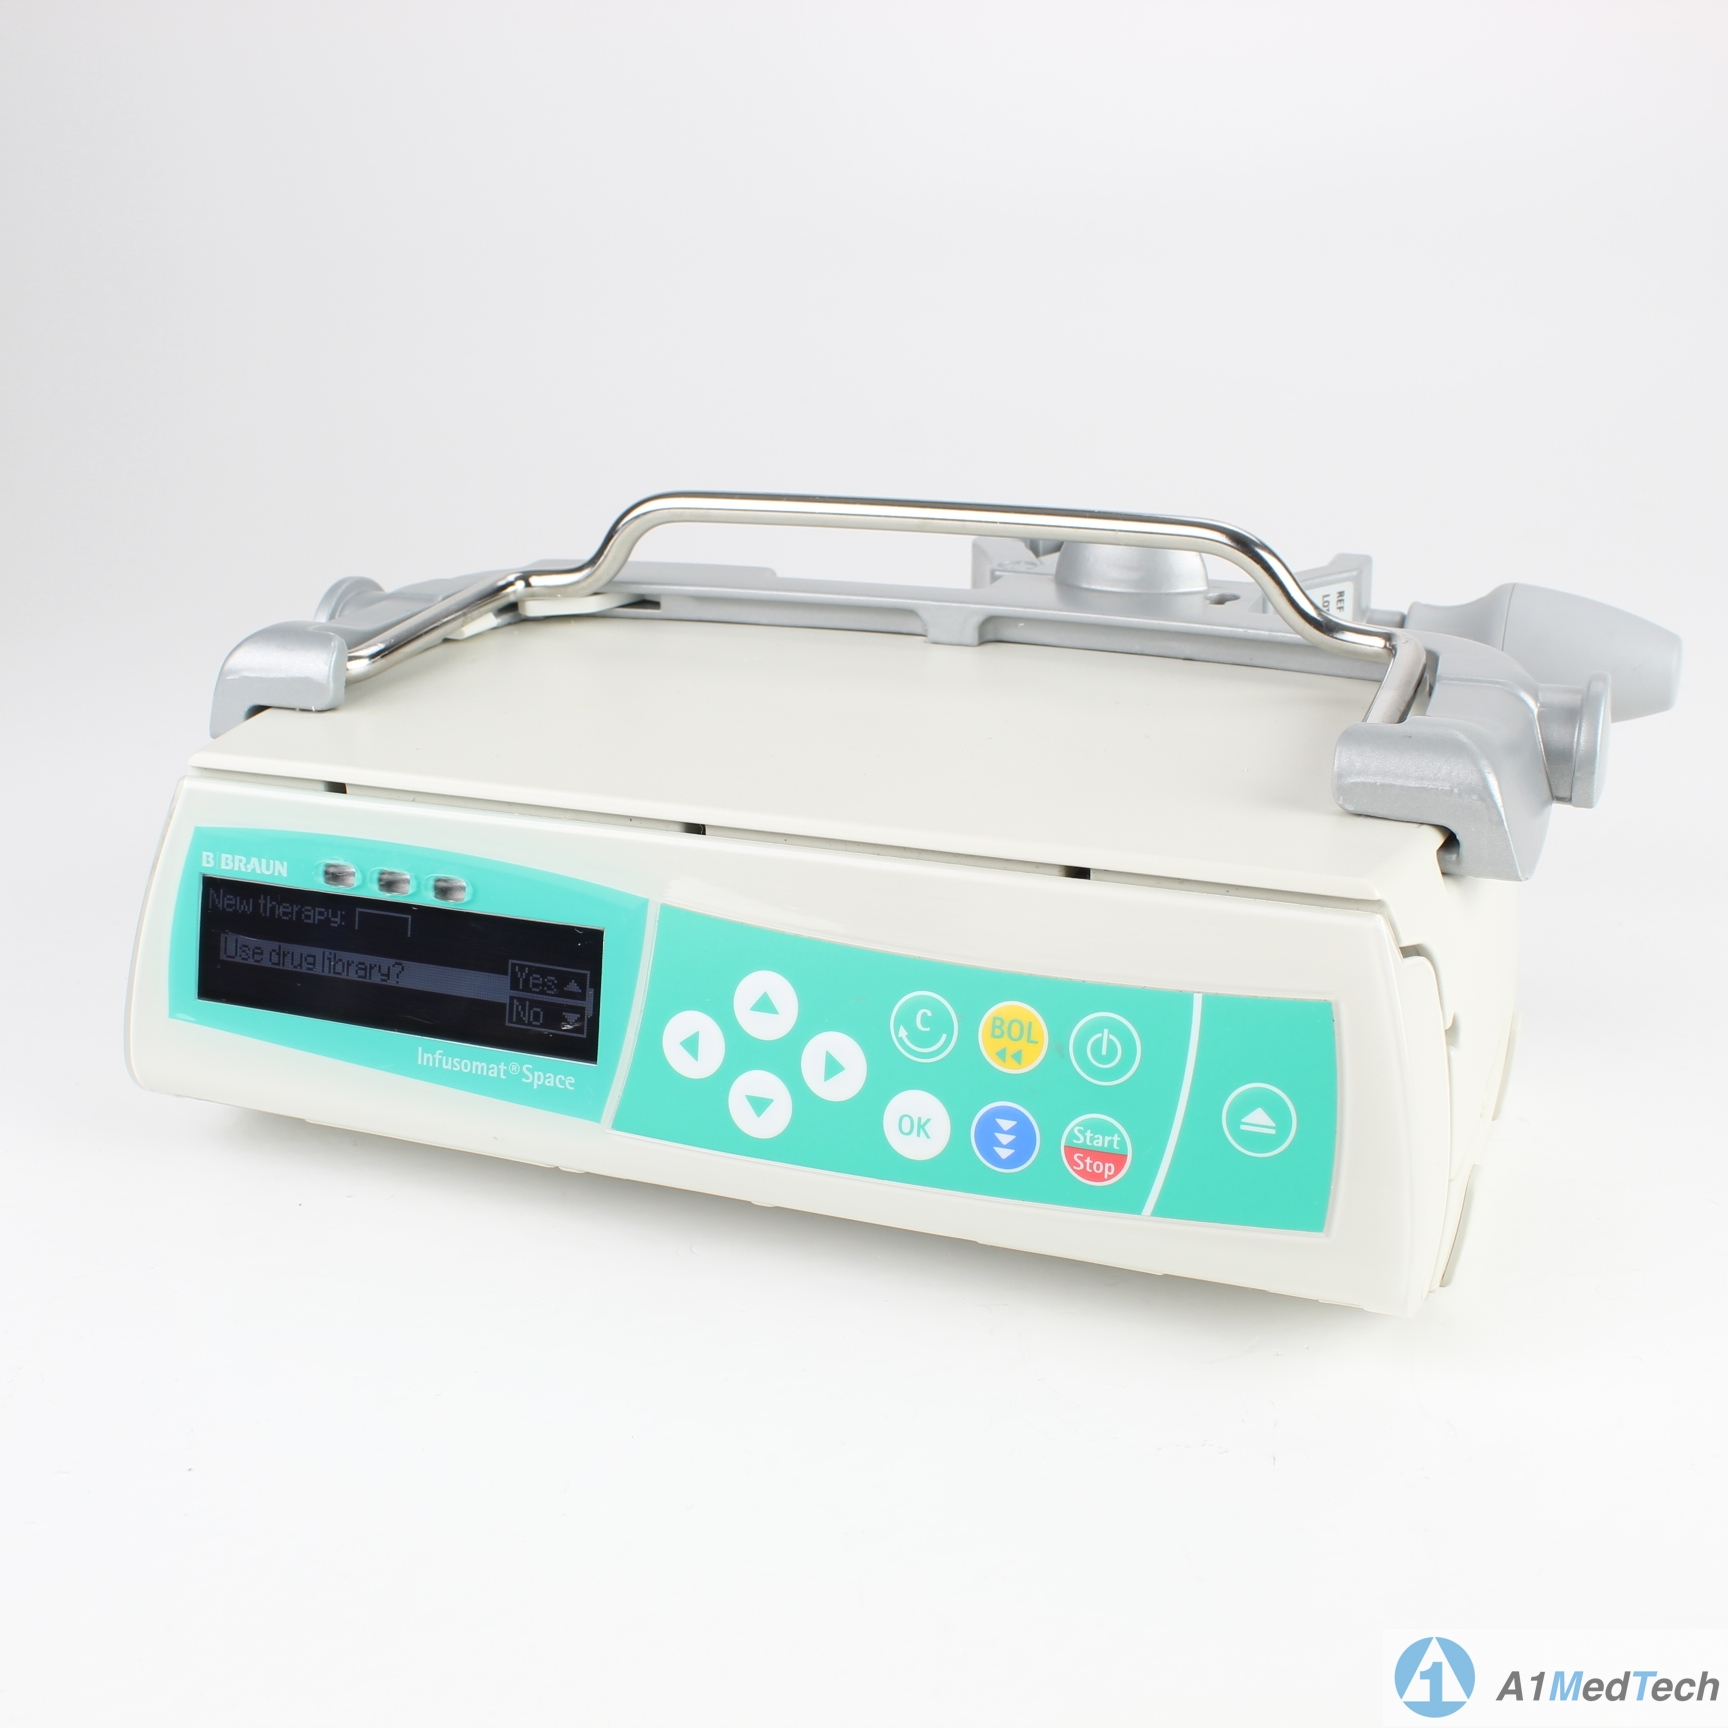BBraun Infusomat Space: (122, 600, 1552, 1347)
